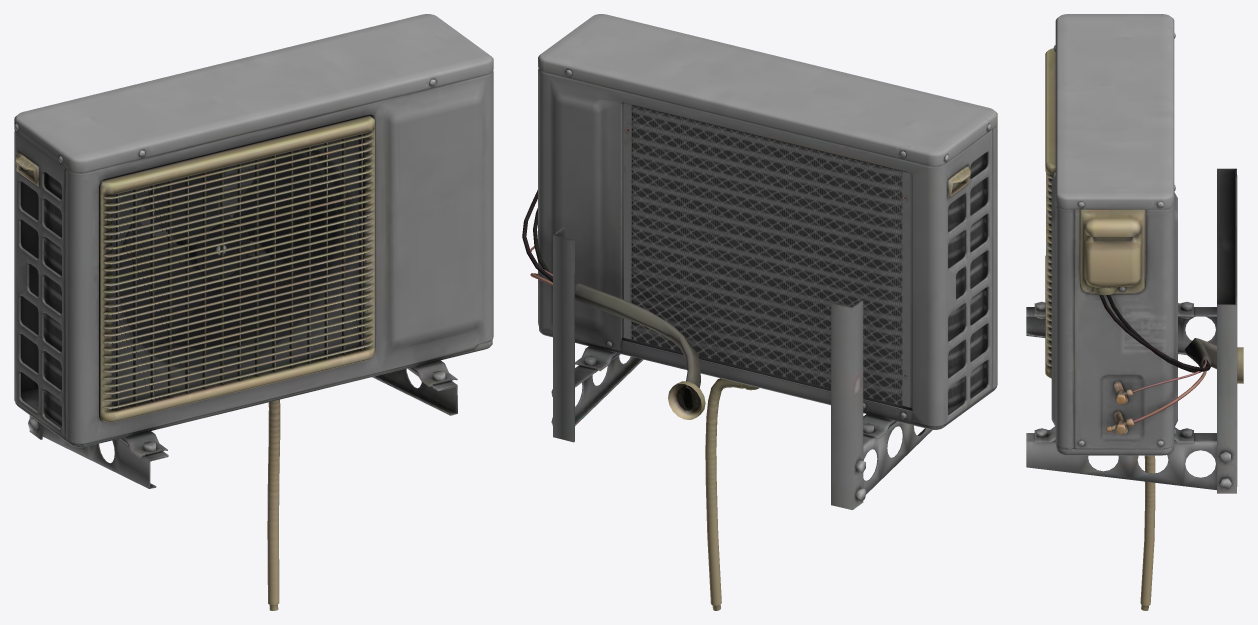
The model's file is exterior_aircon.glb.
The picture shows the model from 3 angles, left to right: view 1: azimuth 30°, elevation 25°; view 2: azimuth 150°, elevation 25°; view 3: azimuth 270°, elevation 25°; orthographic projection. The views are drawn at different scales.
Visible parts, largest first — view 1: exterior_aircon_unit; view 2: exterior_aircon_unit; view 3: exterior_aircon_unit.
Part boxes in pixels (box(x1,y1,x2,y2)): exterior_aircon_unit: box(14, 14, 493, 610); exterior_aircon_unit: box(522, 14, 997, 610); exterior_aircon_unit: box(1026, 14, 1243, 610).
Bounding box in the file's own units: 0.8 × 0.9279 × 0.3742.
2 materials, 2 textured.
